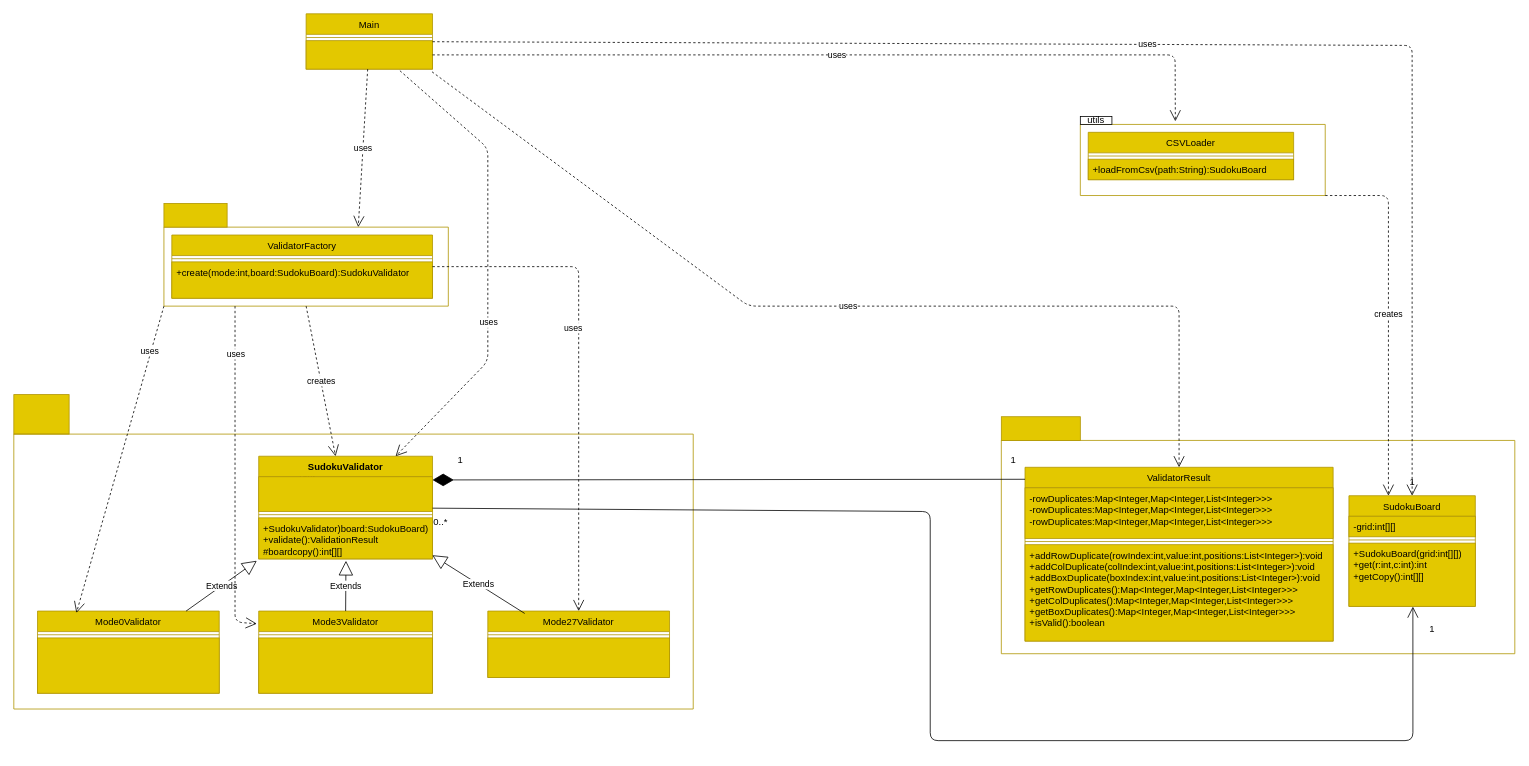
The diagram is 1529 pixels wide and 766 high, and some of its shapes have lost their labels. Here are the shapes that lost their labels. From the top down, the centre of each, then its label:
the point at 369,54: +main(args:String[]):void
the point at 195,215: factory
the point at 41,414: validators
the point at 1040,428: model
the point at 345,494: #board:SudokuBoard(final) #result:ValidationResult(final)
the point at 128,665: +Mode0Validator(board:SudokuBoard) +validate():ValidationResult
the point at 345,665: +Mode3Validator(board:SudokuBoard) +validate():ValidationResult
the point at 578,657: +Mode27Validator(board:SudokuBoard) +validate():ValidationResult
